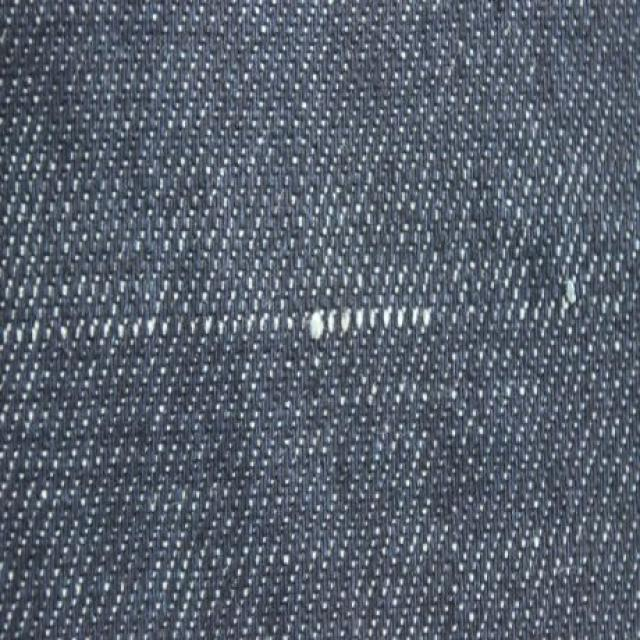Thread_other: (15, 100, 640, 507)
